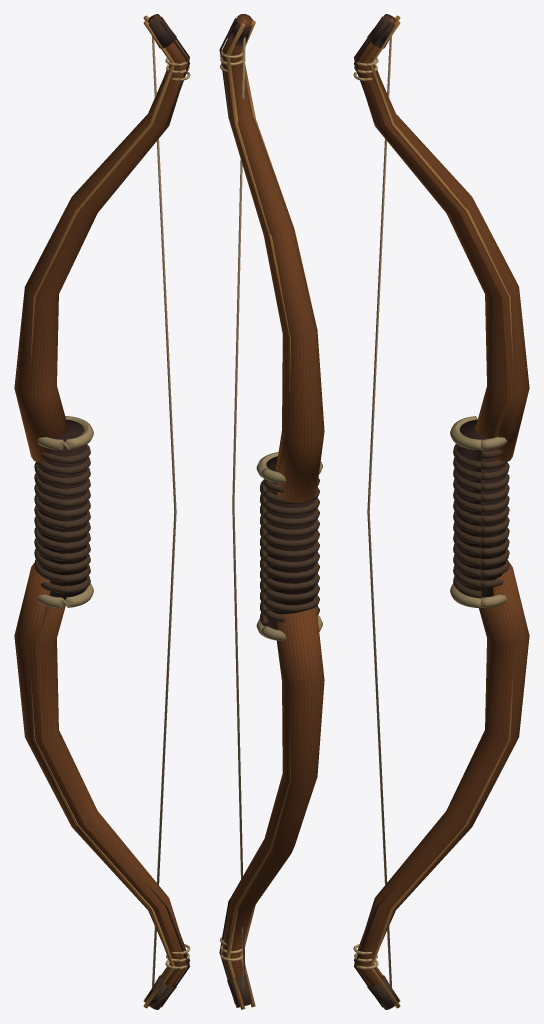
The model's file is longbow.glb.
3 views of the same model, side by side, from view 1: azimuth 90°, elevation 25°; view 2: azimuth 210°, elevation 25°; view 3: azimuth 270°, elevation 25° (orthographic).
Parts seen in each view (by area): view 1: UpperLimb, LowerLimb, BowGrip, BowString; view 2: UpperLimb, LowerLimb, BowGrip, BowString; view 3: UpperLimb, LowerLimb, BowGrip, BowString.
Part boxes in pixels (x1,y1,x2,y2): UpperLimb: [14, 14, 190, 462]; LowerLimb: [14, 563, 190, 1009]; BowGrip: [34, 416, 93, 607]; BowString: [151, 19, 176, 988]; UpperLimb: [219, 14, 324, 502]; LowerLimb: [219, 607, 324, 1009]; BowGrip: [256, 452, 322, 641]; BowString: [232, 20, 245, 1005]; UpperLimb: [353, 14, 529, 461]; LowerLimb: [353, 563, 529, 1009]; BowGrip: [450, 416, 509, 607]; BowString: [367, 19, 392, 988].
Bounding box in the file's own units: 0.1079 × 1.75 × 0.2811.
Materials: 8 (1 with a texture image).
